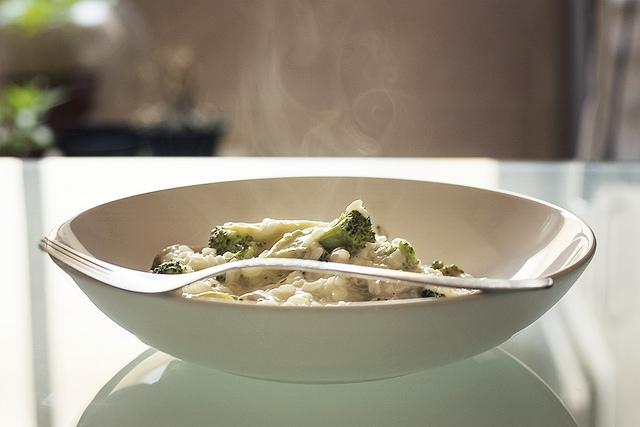broccoli: (314, 210, 376, 256), (208, 225, 265, 259), (386, 237, 419, 270), (430, 259, 465, 277), (150, 261, 188, 274), (420, 290, 444, 298), (217, 274, 226, 282)
